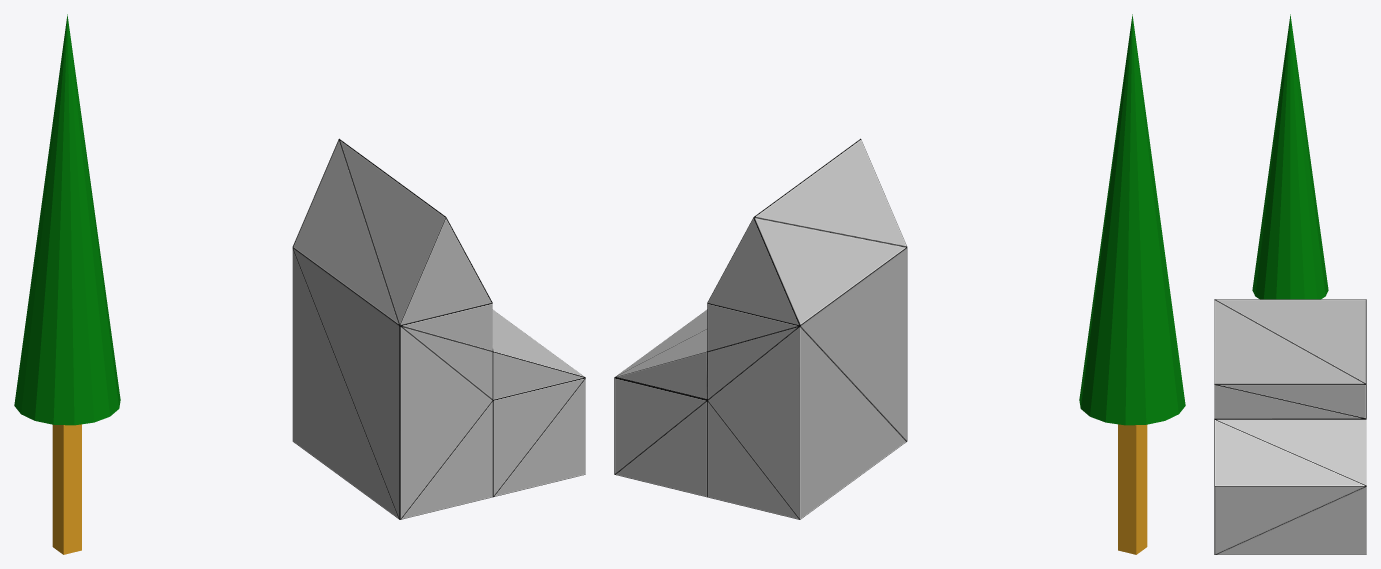
File: landscape-1b.dae
The picture shows the model from 3 angles, left to right: view 1: azimuth 30°, elevation 25°; view 2: azimuth 150°, elevation 25°; view 3: azimuth 270°, elevation 25°; orthographic projection. The views are drawn at different scales.
Parts seen in each view (by area): view 1: landscape_1, landscape_0; view 2: landscape_1, landscape_0; view 3: landscape_1, landscape_0.
Boxes of the visible parts, <box> form: landscape_1: <box>292,138,585,519</box>; landscape_0: <box>14,14,120,554</box>; landscape_1: <box>614,138,907,519</box>; landscape_0: <box>1079,14,1185,554</box>; landscape_1: <box>1214,299,1366,554</box>; landscape_0: <box>1252,14,1328,299</box>.
Size of the model in its own units: 2.75 by 1 by 2.75.
